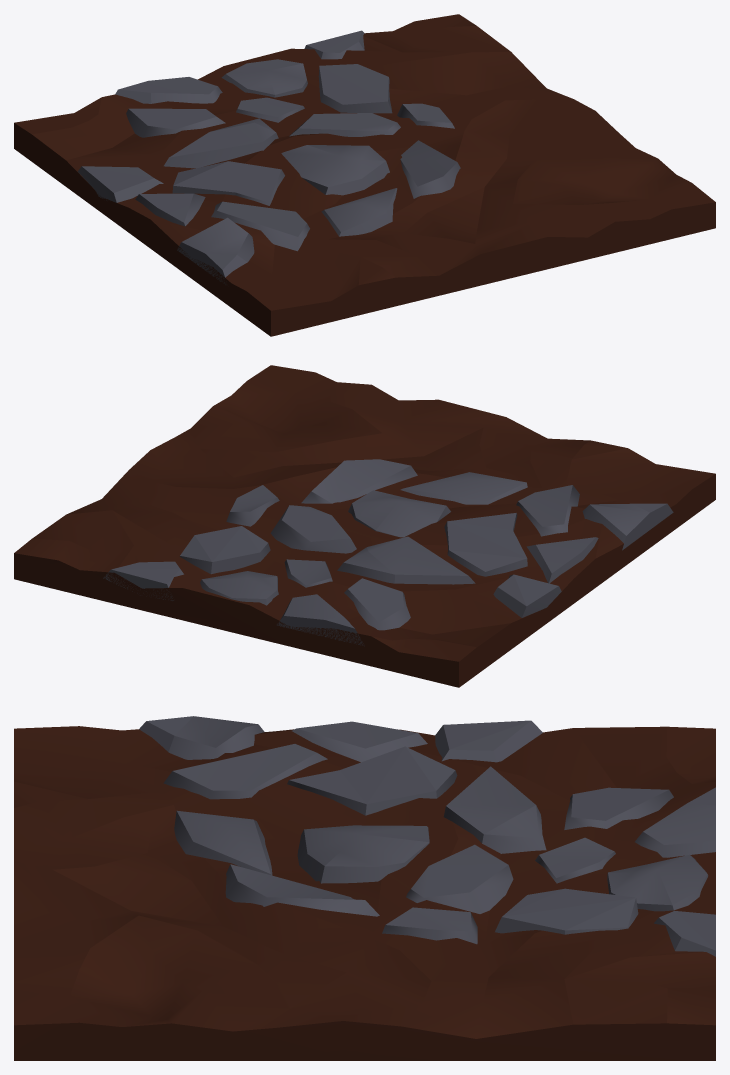
File: Ground_Stone_Path_Turn_RB.fbx
3 views of the same model, one above another, from view 1: azimuth 30°, elevation 25°; view 2: azimuth 150°, elevation 25°; view 3: azimuth 270°, elevation 25° (orthographic). The views are drawn at different scales.
Parts seen in each view (by area): view 1: Ground_Stone_Path_Turn_RB; view 2: Ground_Stone_Path_Turn_RB; view 3: Ground_Stone_Path_Turn_RB.
Boxes of the visible parts, <box> form: Ground_Stone_Path_Turn_RB: <box>14,14,715,336</box>; Ground_Stone_Path_Turn_RB: <box>14,365,715,687</box>; Ground_Stone_Path_Turn_RB: <box>14,716,715,1060</box>.
Bounding box in the file's own units: 147 × 14.83 × 147.
